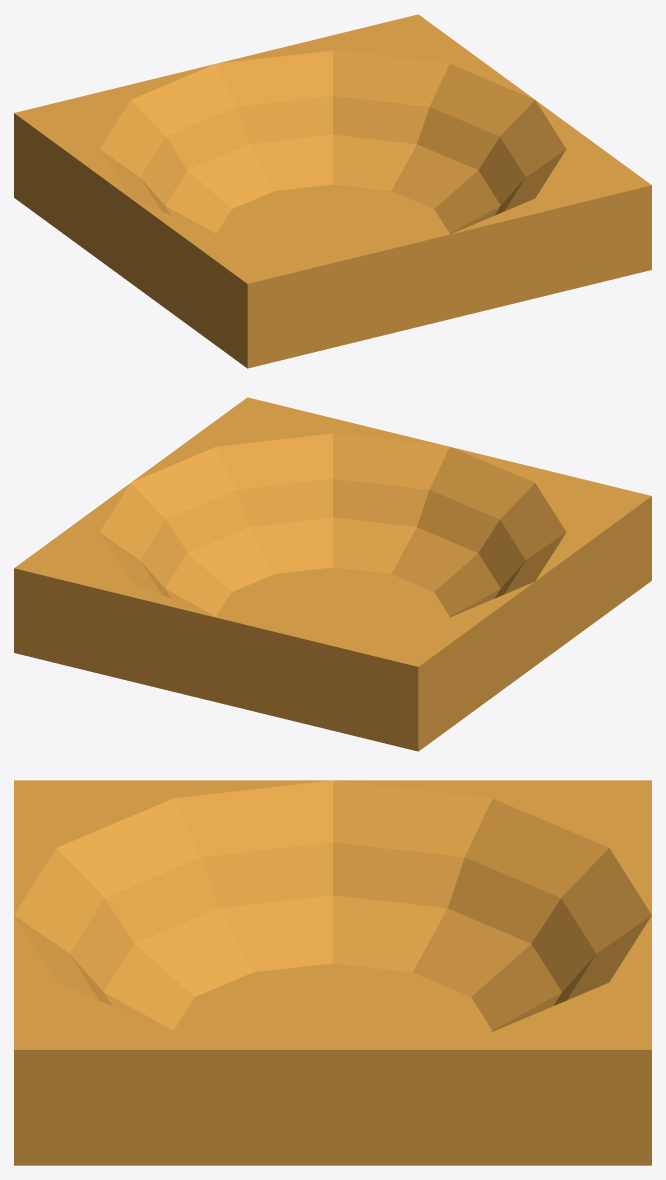
Rendered from tiles-tile-hole-big.glb.
3 renders of one model, top to bottom at view 1: azimuth 30°, elevation 25°; view 2: azimuth 150°, elevation 25°; view 3: azimuth 270°, elevation 25°, orthographic. The views are drawn at different scales.
Parts seen in each view (by area): view 1: tile-hole-big; view 2: tile-hole-big; view 3: tile-hole-big.
Boxes of the visible parts, x1,y1,x2,y2 form: tile-hole-big: [14, 14, 651, 368]; tile-hole-big: [14, 397, 651, 751]; tile-hole-big: [14, 780, 651, 1165].
Bounding box in the file's own units: 30 × 6 × 30.
